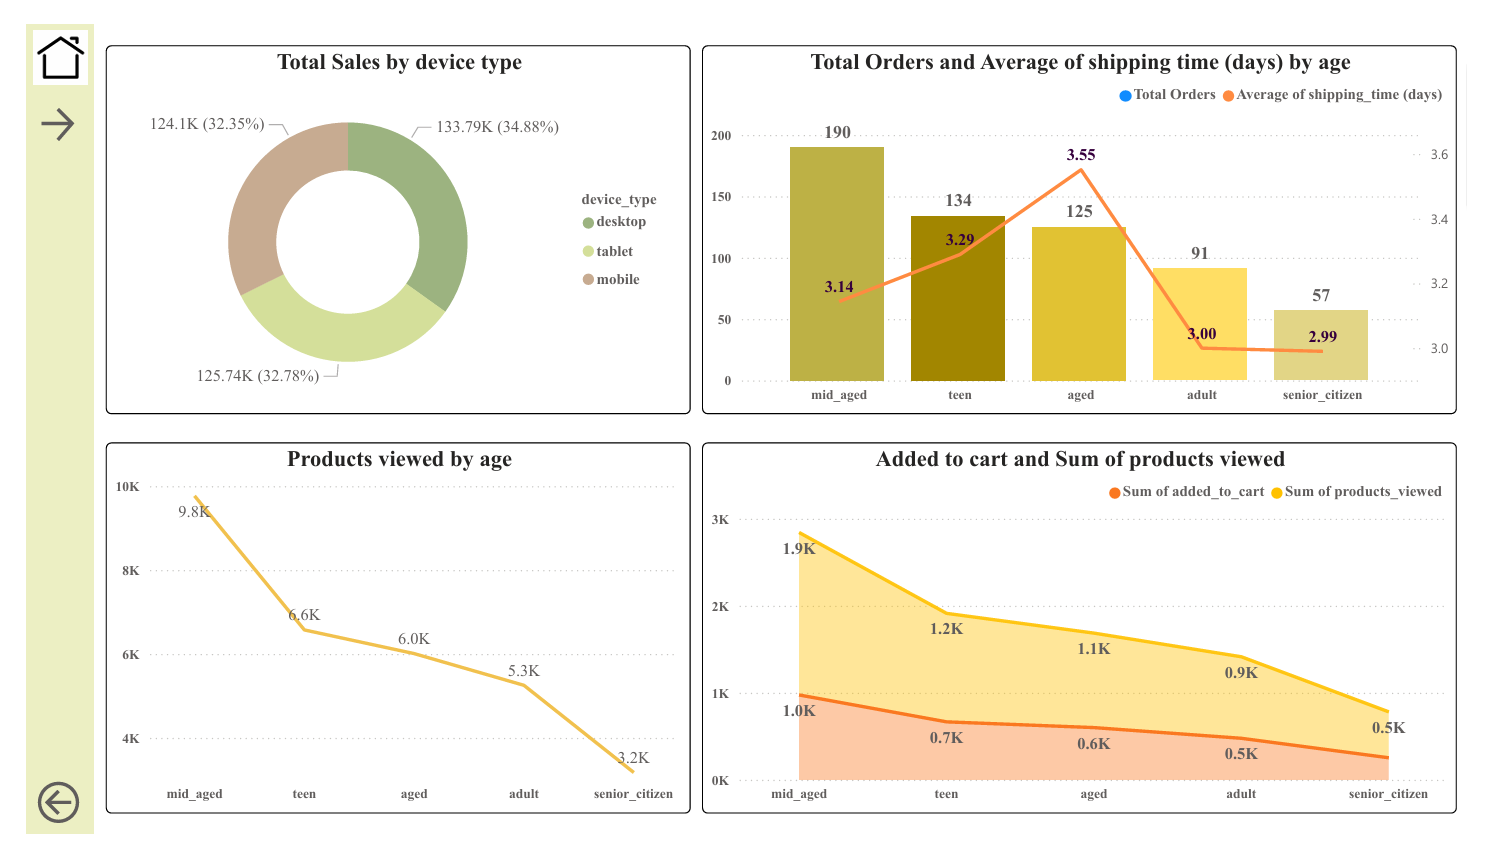

This screenshot's page, from the dashboard's own definition file:
{"tool":"powerbi","page":{"name":"page 2","canvas":[1280,720],"ordinal":1},"visuals":[{"type":"shape","box":[0,0,60.4,720.4],"z":0,"group":"g2"},{"type":"donutChart","title":"Total Sales by device type","fields":{"Category":["Sheet1.device_type"],"Y":["Sheet1.Total Sales"]},"box":[70,17.8,520.1,328],"z":0,"group":"g1"},{"type":"group","id":"g1","title":"Group 1","box":[70,17.8,1200.7,683.4],"z":1000},{"type":"lineClusteredColumnComboChart","title":"Total Orders and Average of shipping time (days) by age","fields":{"Y2":["Avg(Sheet1.shipping_time (days))"],"Category":["Sheet1.age (groups)"],"Y":["Sheet1.Total Orders"]},"box":[599.7,17.8,671,328],"z":1000,"group":"g1"},{"type":"group","id":"g2","title":"Group 2","box":[0,0,60.4,720.4],"z":2000},{"type":"image","box":[0,0,60.4,57.6],"z":2000,"group":"g2"},{"type":"lineChart","title":"Products viewed by age","fields":{"Category":["Sheet1.age (groups)"],"Y":["Sum(Sheet1.time_spent (min))"]},"box":[70,370.5,520.1,330.7],"z":2000,"group":"g1"},{"type":"stackedAreaChart","title":"Added to cart and Sum of products viewed ","fields":{"Category":["Sheet1.age (groups)"],"Y":["Sum(Sheet1.added_to_cart)","Sum(Sheet1.products_viewed)"]},"box":[599.7,370.5,671,330.7],"z":3000,"group":"g1"},{"type":"actionButton","box":[6.9,68.6,48,39.8],"z":5000,"group":"g2"},{"type":"actionButton","box":[4.1,666.9,52.1,48],"z":6000,"group":"g2"}]}

Visuals, with their boxes in screenshot pixels (x1, y1, x2, y2), scaled from the page's 1280x720 canvas onto the 1490x856 screenshot:
shape: bbox(0, 0, 70, 855)
"Total Sales by device type" donutChart: bbox(81, 21, 687, 411)
"Group 1" group: bbox(81, 21, 1479, 834)
"Total Orders and Average of shipping time (days) by age" lineClusteredColumnComboChart: bbox(698, 21, 1479, 411)
"Group 2" group: bbox(0, 0, 70, 855)
image: bbox(0, 0, 70, 68)
"Products viewed by age" lineChart: bbox(81, 440, 687, 834)
"Added to cart and Sum of products viewed " stackedAreaChart: bbox(698, 440, 1479, 834)
actionButton: bbox(8, 82, 64, 129)
actionButton: bbox(5, 793, 65, 850)
